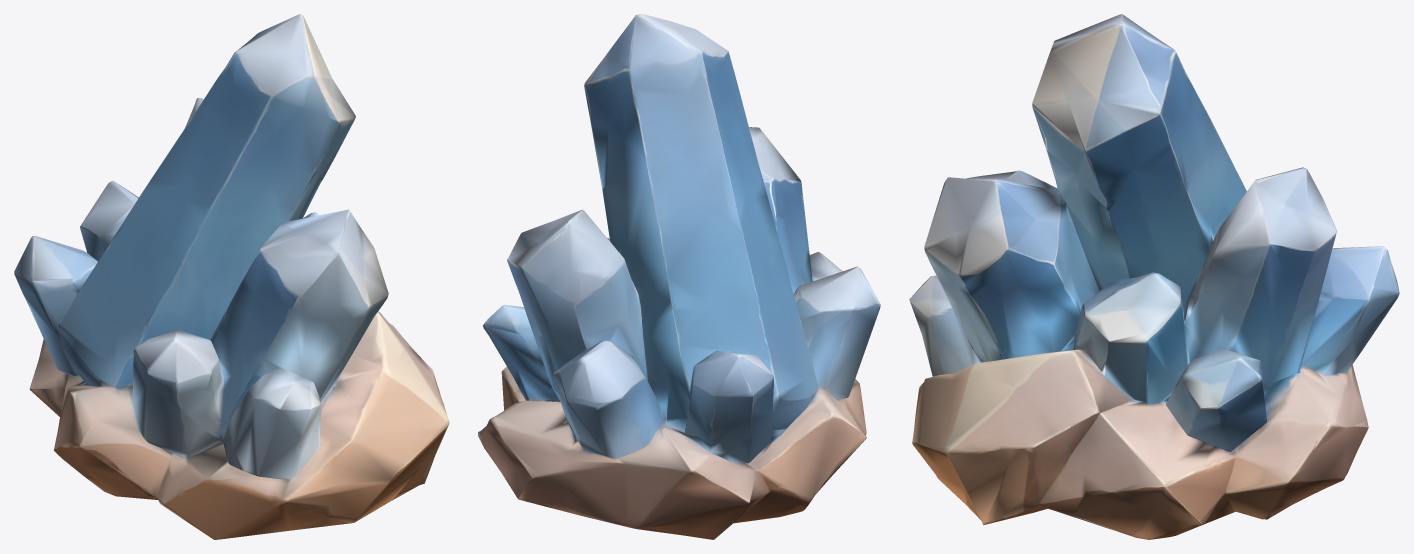
The model's file is deposito_hielo.glb.
The picture shows the model from 3 angles, left to right: view 1: azimuth 30°, elevation 25°; view 2: azimuth 150°, elevation 25°; view 3: azimuth 270°, elevation 25°; orthographic projection. The views are drawn at different scales.
Visible parts, largest first — view 1: tripo_node_4e2e979a-3785-4ebd-a73a-448d34c3ccf2; view 2: tripo_node_4e2e979a-3785-4ebd-a73a-448d34c3ccf2; view 3: tripo_node_4e2e979a-3785-4ebd-a73a-448d34c3ccf2.
Part boxes in pixels (left/top/right/bottom): tripo_node_4e2e979a-3785-4ebd-a73a-448d34c3ccf2: left=14, top=14, right=449, bottom=539; tripo_node_4e2e979a-3785-4ebd-a73a-448d34c3ccf2: left=478, top=14, right=880, bottom=539; tripo_node_4e2e979a-3785-4ebd-a73a-448d34c3ccf2: left=909, top=14, right=1399, bottom=539.
Bounding box in the file's own units: 0.7893 × 0.9798 × 0.9103.
1 material, 1 textured.
